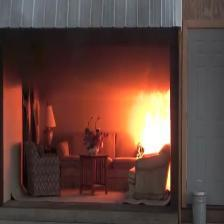fire: (126, 88, 170, 155), (165, 162, 170, 191)
